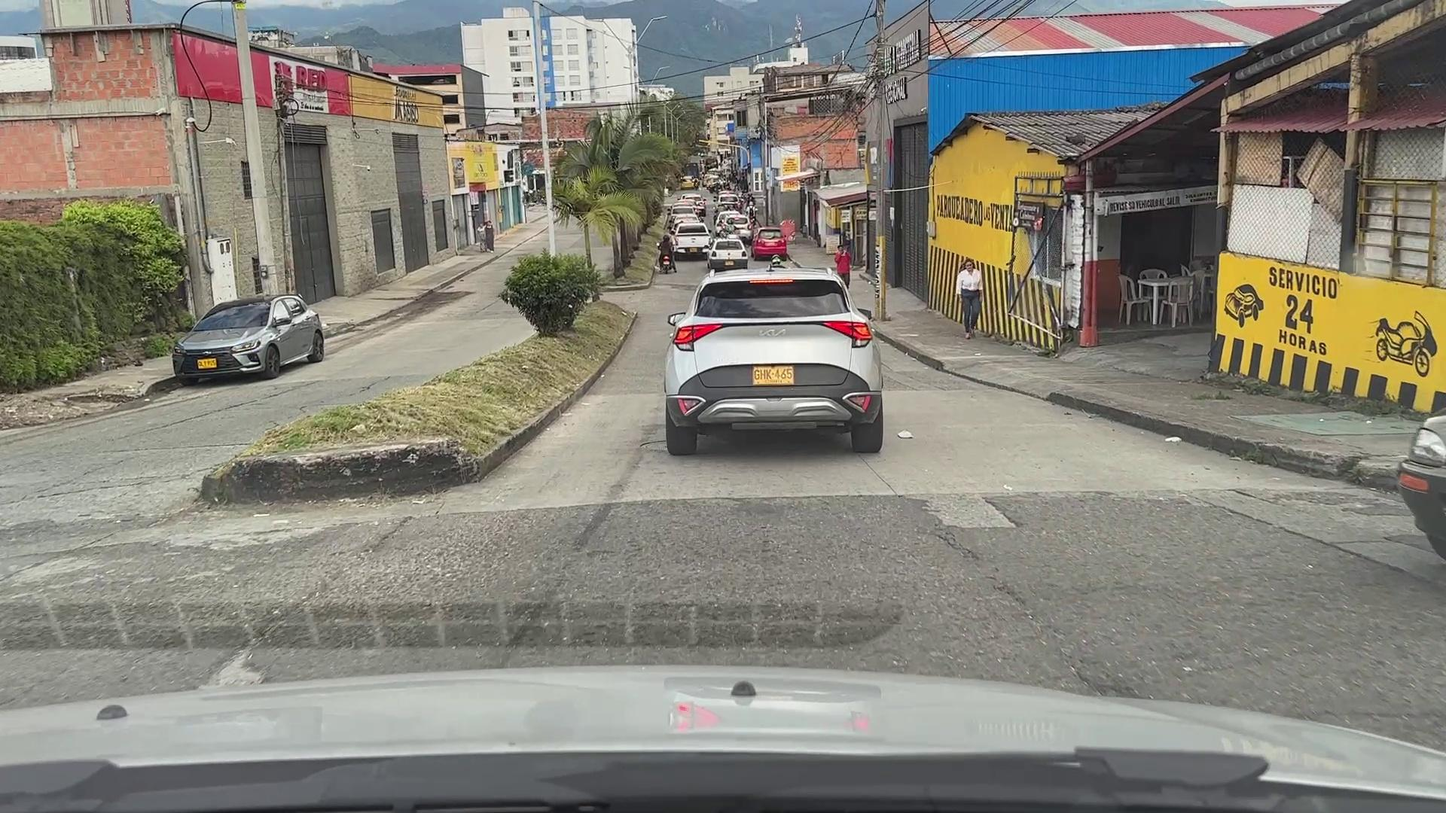bache: (924, 495, 1015, 528)
